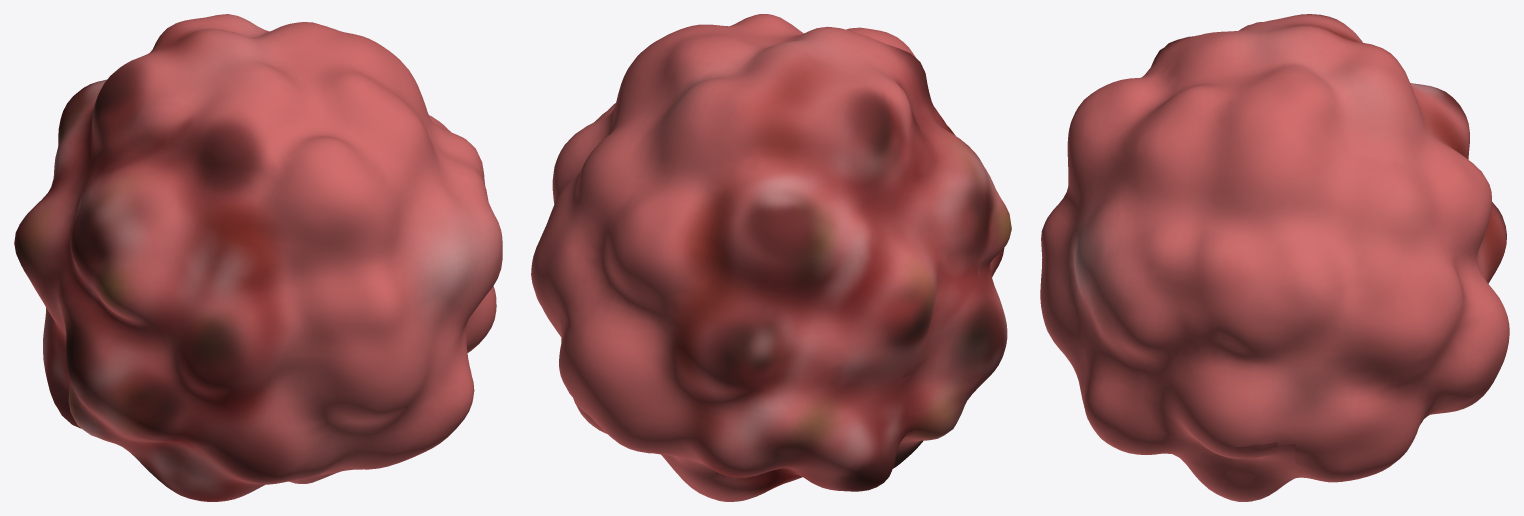
Rendered from lungs_4_tumor.fbx.
3 views of the same model, side by side, from view 1: azimuth 30°, elevation 25°; view 2: azimuth 150°, elevation 25°; view 3: azimuth 270°, elevation 25° (orthographic). The views are drawn at different scales.
Visible parts, largest first — view 1: Tumore; view 2: Tumore; view 3: Tumore.
Part boxes in pixels (box(x1,y1,x2,y2)): Tumore: box(14, 14, 502, 501); Tumore: box(531, 14, 1011, 501); Tumore: box(1040, 14, 1509, 501).
Size of the model in its own units: 2.66 by 2.69 by 2.68.
